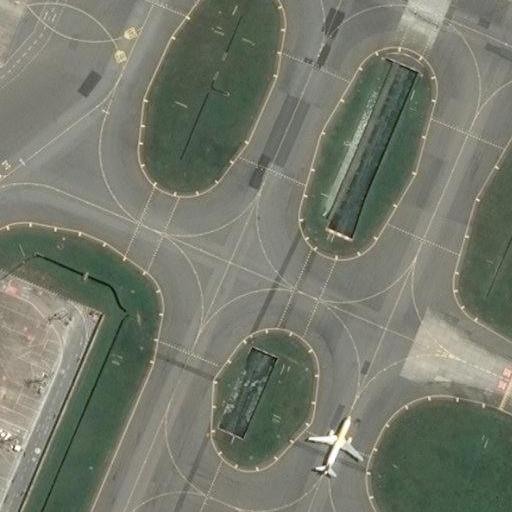Aircraft: (303, 408, 365, 479)
